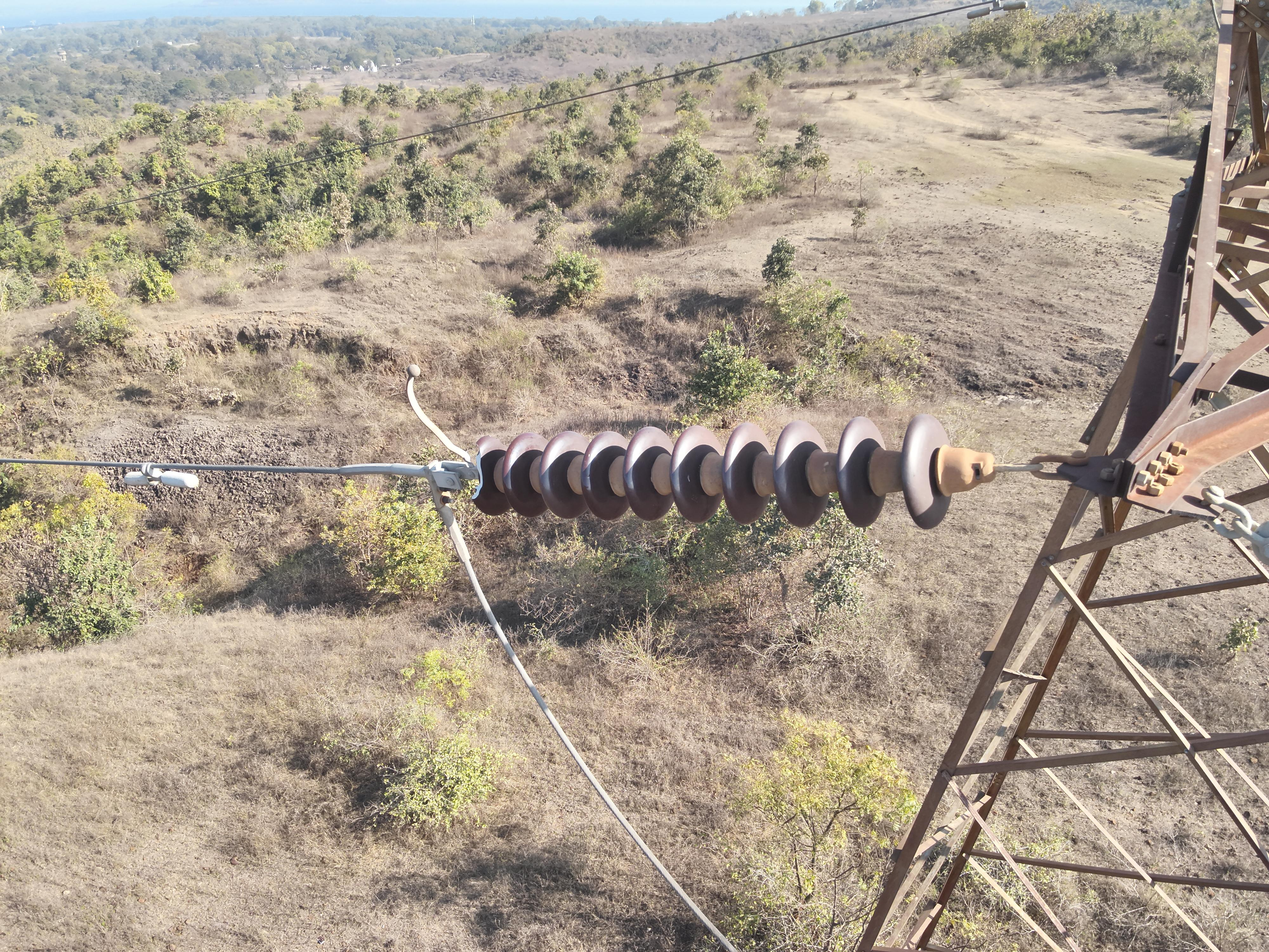broken_insulator: (470, 433, 510, 516)
